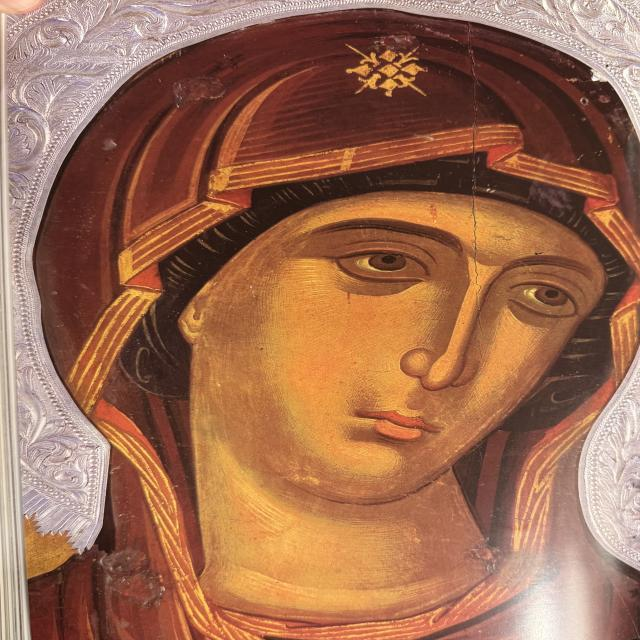mary: (2, 1, 640, 640)
